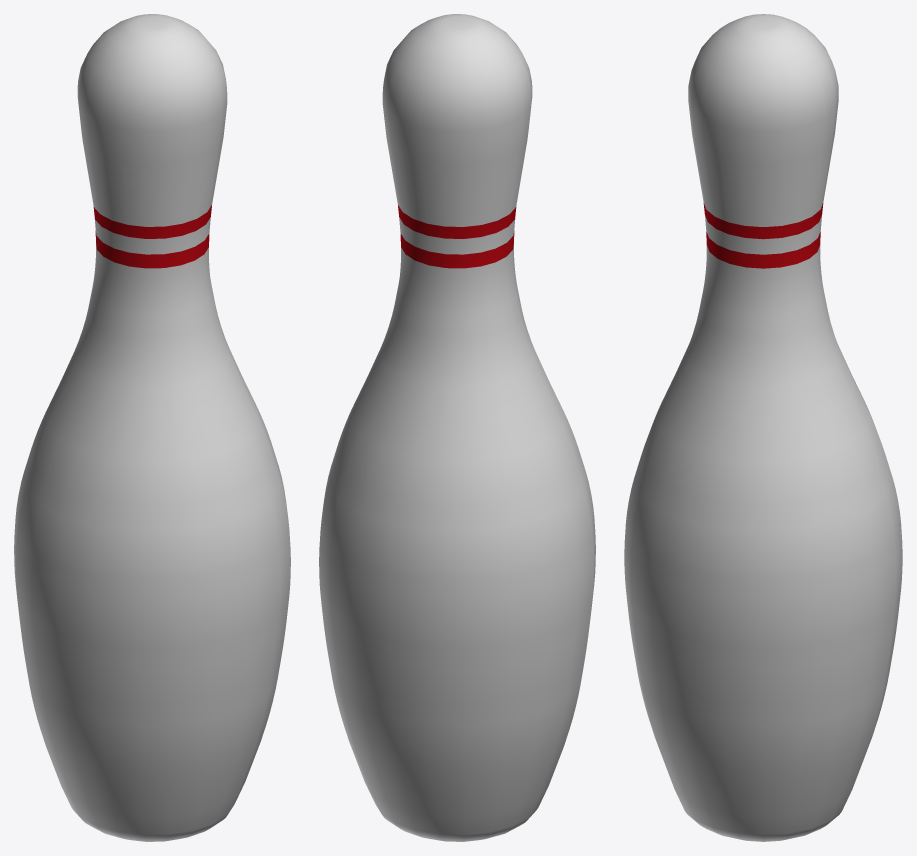
The model's file is pin.fbx.
The picture shows the model from 3 angles, left to right: view 1: azimuth 30°, elevation 25°; view 2: azimuth 150°, elevation 25°; view 3: azimuth 270°, elevation 25°; orthographic projection.
Parts seen in each view (by area): view 1: pin; view 2: pin; view 3: pin.
Part boxes in pixels (box(x1,y1,x2,y2)): pin: box(14, 14, 290, 841); pin: box(319, 14, 595, 841); pin: box(624, 14, 902, 841).
Bounding box in the file's own units: 12 × 38 × 12.
